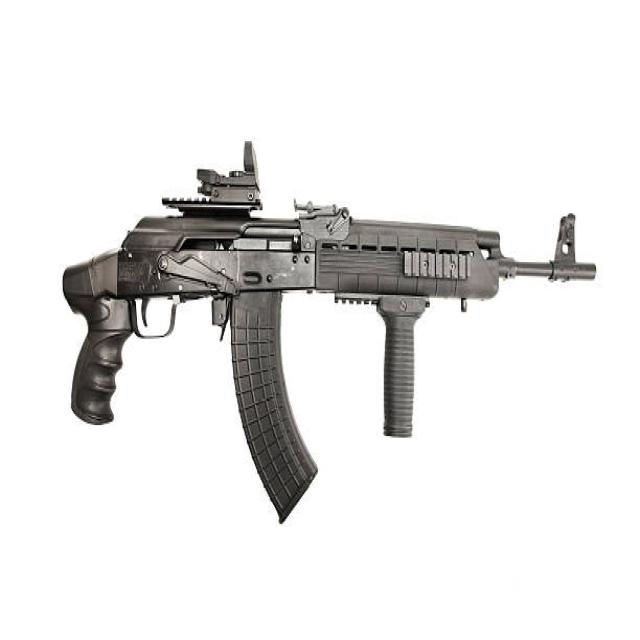rifle: (50, 144, 605, 544)
